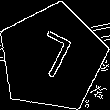L_SW: (27, 28, 78, 87)
